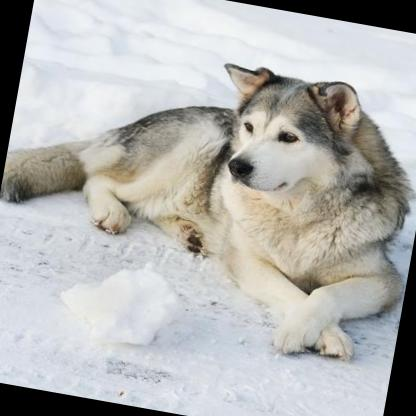malamute: (0, 25, 416, 367)
